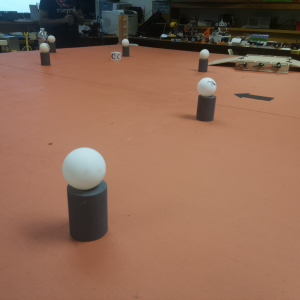blockC: (110, 52, 117, 60)
corner: (119, 14, 127, 38)
obstacle: (64, 146, 111, 238), (196, 76, 218, 120), (197, 49, 209, 73), (39, 43, 49, 64), (46, 34, 56, 52), (121, 39, 130, 56)
side: (237, 62, 287, 73)
slope: (211, 58, 237, 69)
start: (230, 90, 274, 103)
